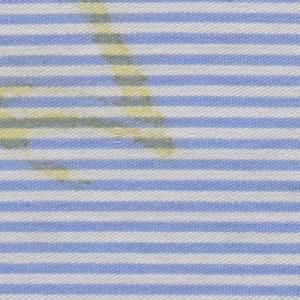Stain: (1, 1, 182, 189)
